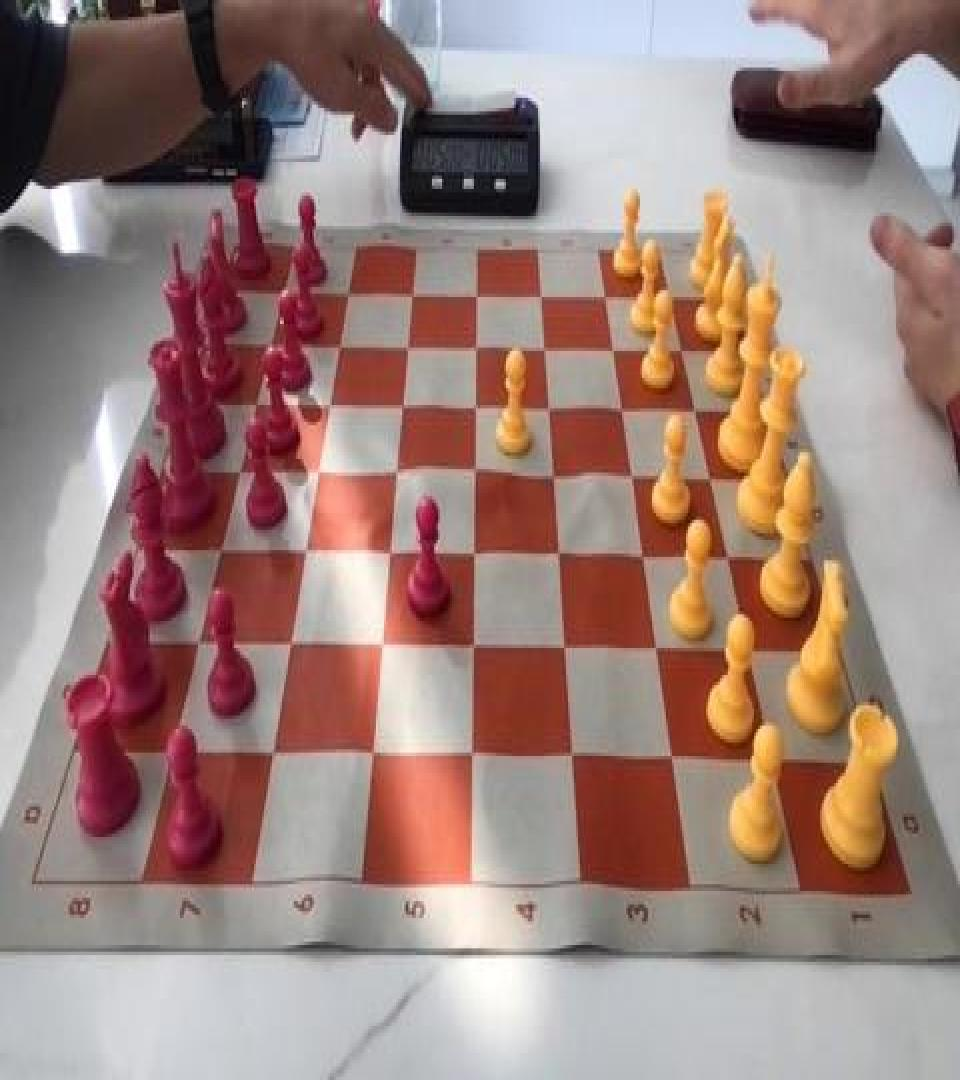xcorner: (164, 732, 188, 773), (264, 734, 288, 775), (463, 737, 487, 778), (563, 739, 587, 780), (281, 624, 305, 665), (373, 626, 397, 667), (555, 629, 579, 670), (646, 631, 670, 672), (380, 533, 404, 574), (632, 538, 656, 579), (230, 452, 254, 493), (465, 457, 489, 498), (246, 383, 270, 424), (392, 386, 416, 427), (465, 388, 489, 429), (683, 393, 707, 434), (397, 327, 421, 368), (465, 329, 489, 370), (533, 329, 557, 370), (669, 332, 693, 373), (401, 273, 425, 314), (466, 275, 490, 316), (594, 278, 618, 319), (657, 280, 681, 321), (364, 736, 388, 776), (662, 741, 686, 781), (761, 743, 785, 783), (189, 623, 213, 663), (464, 628, 488, 668), (736, 633, 760, 673), (211, 530, 235, 570), (296, 532, 320, 572), (464, 535, 488, 575), (548, 537, 572, 577), (716, 540, 740, 580), (308, 454, 332, 494), (387, 456, 411, 496), (543, 459, 567, 499), (620, 461, 644, 501), (698, 461, 722, 501), (319, 385, 343, 425), (538, 390, 562, 430), (610, 392, 634, 432), (260, 324, 284, 364), (329, 326, 353, 366), (601, 331, 625, 371), (273, 272, 297, 312), (337, 272, 361, 312), (530, 277, 554, 317)
